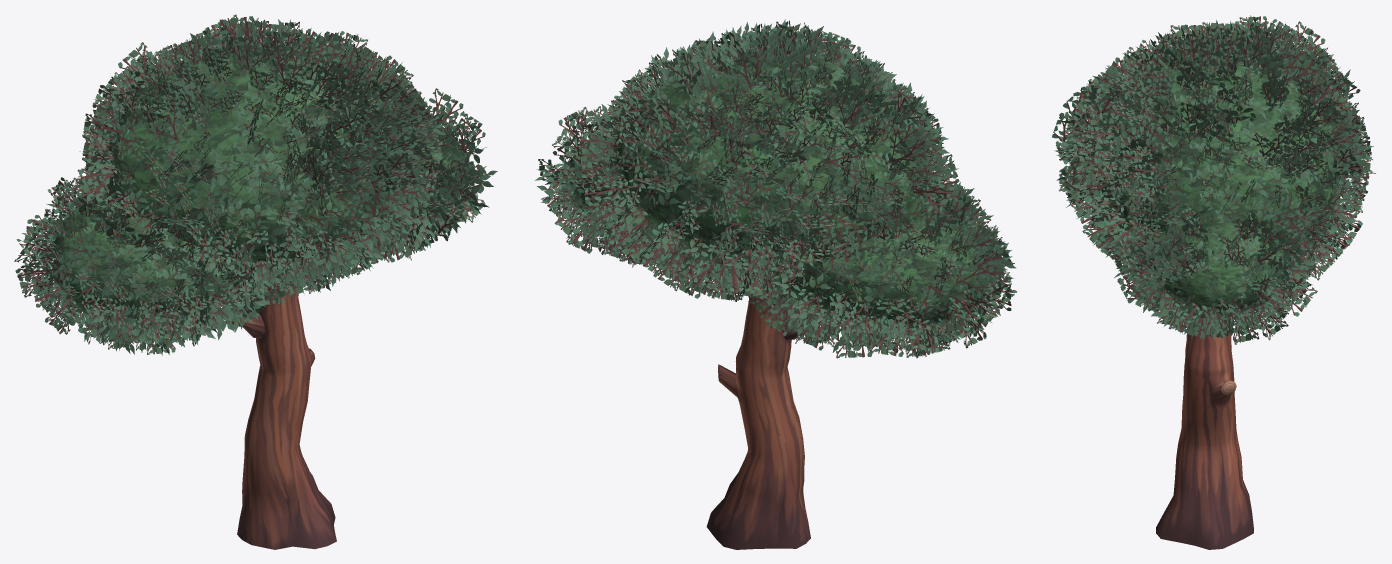
The model's file is Tree_01.fbx.
The picture shows the model from 3 angles, left to right: view 1: azimuth 30°, elevation 25°; view 2: azimuth 150°, elevation 25°; view 3: azimuth 270°, elevation 25°; orthographic projection. The views are drawn at different scales.
Visible parts, largest first — view 1: leaves_01, Tree_01_leaf, Tree_01; view 2: leaves_01, Tree_01_leaf, Tree_01; view 3: leaves_01, Tree_01_leaf, Tree_01.
Part boxes in pixels (x1,y1,x2,y2): leaves_01: [14, 14, 497, 355]; Tree_01_leaf: [53, 47, 464, 323]; Tree_01: [231, 283, 336, 549]; leaves_01: [534, 19, 1017, 358]; Tree_01_leaf: [569, 47, 986, 329]; Tree_01: [706, 274, 810, 549]; leaves_01: [1052, 15, 1375, 344]; Tree_01_leaf: [1083, 47, 1340, 314]; Tree_01: [1156, 314, 1253, 549].
Size of the model in its own units: 611 by 643 by 392.
